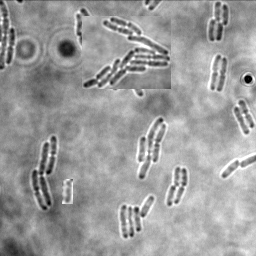Dividing: (175, 167, 189, 204), (238, 99, 255, 128), (209, 54, 222, 90), (217, 56, 228, 92), (7, 27, 17, 64)
Microcolony: (82, 16, 171, 89), (137, 117, 168, 180), (32, 135, 57, 211), (120, 195, 155, 238), (208, 1, 229, 42)
Rod: (233, 106, 251, 135), (222, 157, 240, 178), (62, 179, 73, 204), (167, 184, 177, 206), (174, 166, 183, 187)
